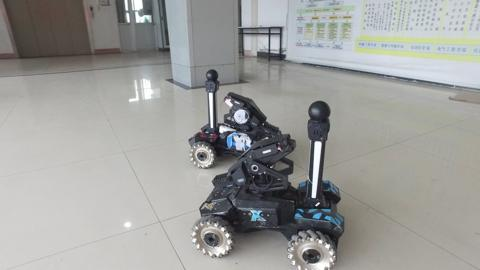chariot: (183, 90, 358, 270), (179, 69, 295, 169)
